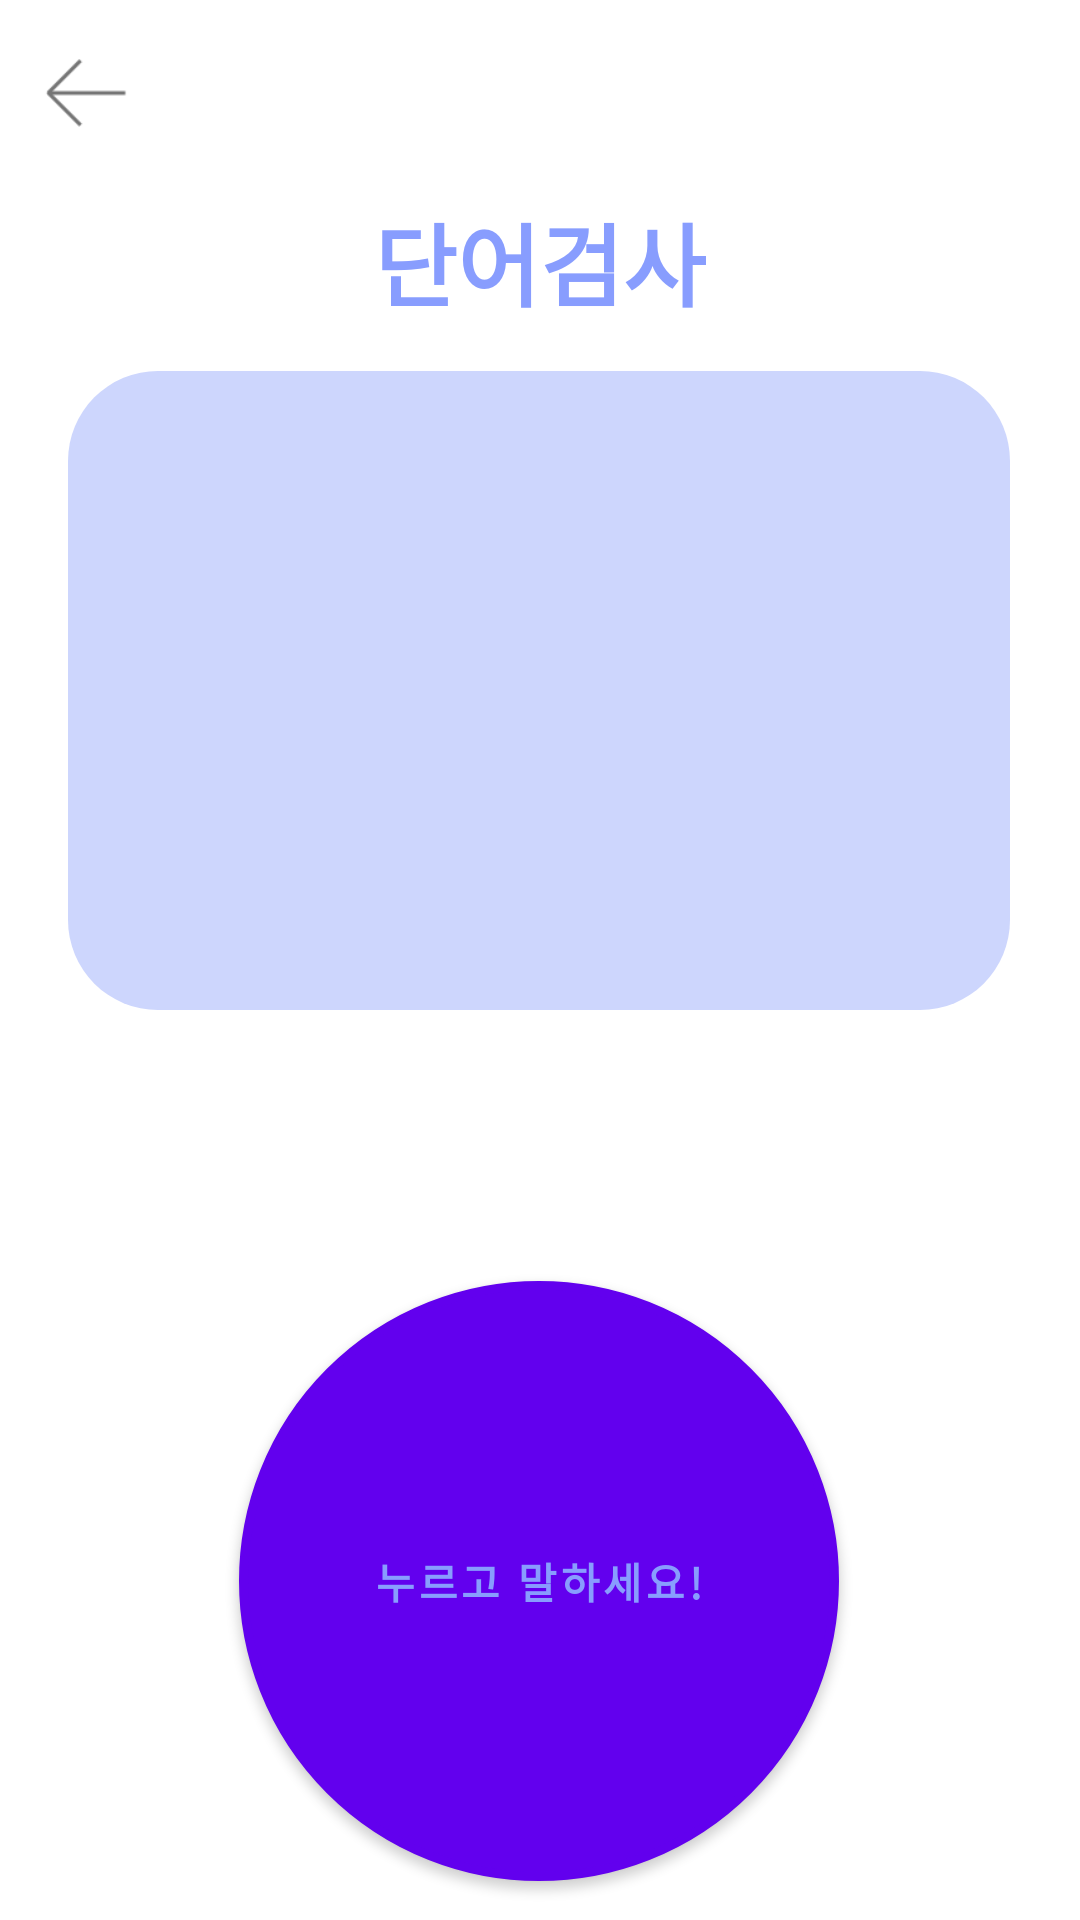

Screen size 1080×1920. Icon name, then its box in pixels as (left=x1, top=y1, right=x2, bottom=y2):
pageback: (left=46, top=59, right=126, bottom=127)
